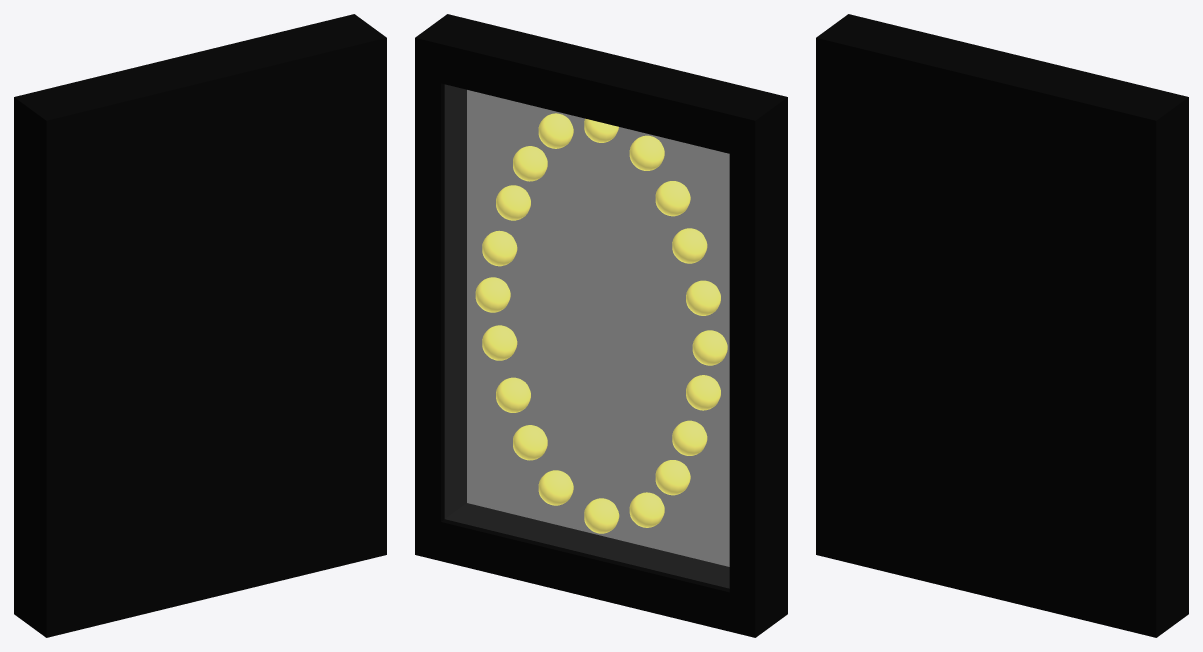
The model's file is Tunel infinito.fbx.
The picture shows the model from 3 angles, left to right: view 1: azimuth 30°, elevation 25°; view 2: azimuth 150°, elevation 25°; view 3: azimuth 330°, elevation 25°; orthographic projection.
Parts seen in each view (by area): view 1: Case; view 2: Vidrio, Case, Espejo, Sphere.002, Sphere.004, Sphere.003, Sphere.005, Sphere.006, Sphere.001; view 3: Case.
Part boxes in pixels (x1,y1,x2,y2): Case: [14, 14, 386, 637]; Vidrio: [445, 85, 729, 587]; Case: [415, 14, 787, 637]; Espejo: [467, 90, 729, 566]; Sphere.002: [538, 113, 664, 527]; Sphere.004: [496, 185, 707, 455]; Sphere.003: [513, 146, 690, 495]; Sphere.005: [482, 230, 720, 410]; Sphere.006: [475, 277, 727, 365]; Sphere.001: [584, 118, 619, 533]; Case: [816, 14, 1188, 637].
Bounding box in the file's own units: 29.24 × 177 × 257.
